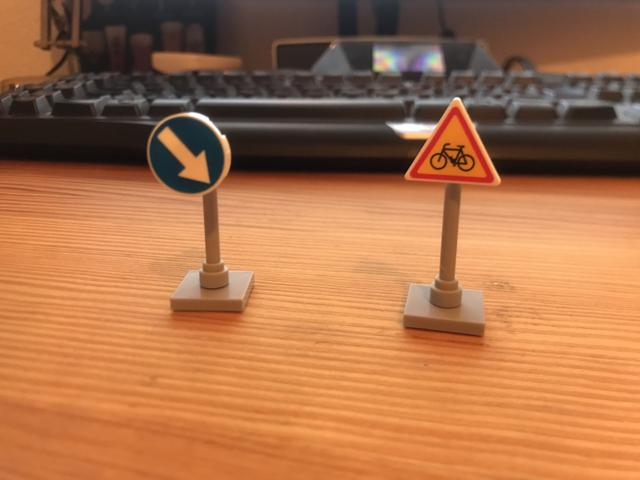radfahrer: (404, 97, 503, 188)
rechts halten: (149, 114, 233, 195)
